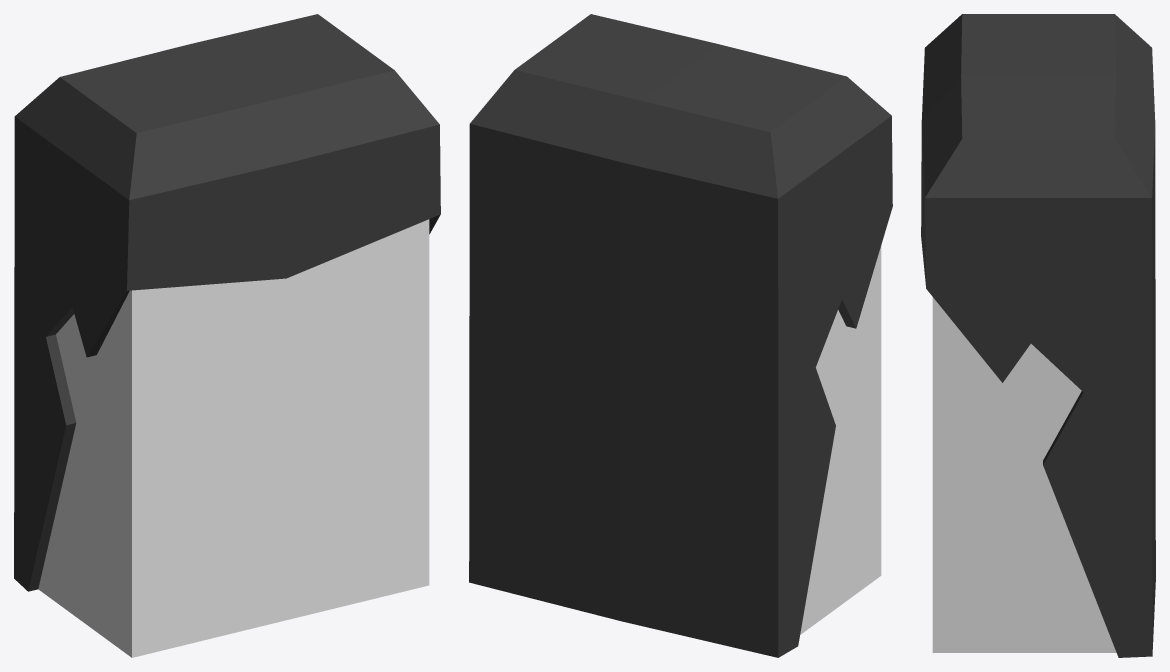
3 renders of one model, left to right at view 1: azimuth 30°, elevation 25°; view 2: azimuth 150°, elevation 25°; view 3: azimuth 270°, elevation 25°, orthographic.
Visible parts, largest first — view 1: Cube, Cube.001; view 2: Cube.001, Cube; view 3: Cube.001, Cube.
Part boxes in pixels (x1,y1,x2,y2): Cube: (38,219,429,657); Cube.001: (14,14,440,591); Cube.001: (469,14,892,657); Cube: (800,246,881,634); Cube.001: (921,14,1155,657); Cube: (932,297,1116,652).
Size of the model in its own units: 1.58 by 2.42 by 1.02.
Materials: 1 (1 with a texture image).
